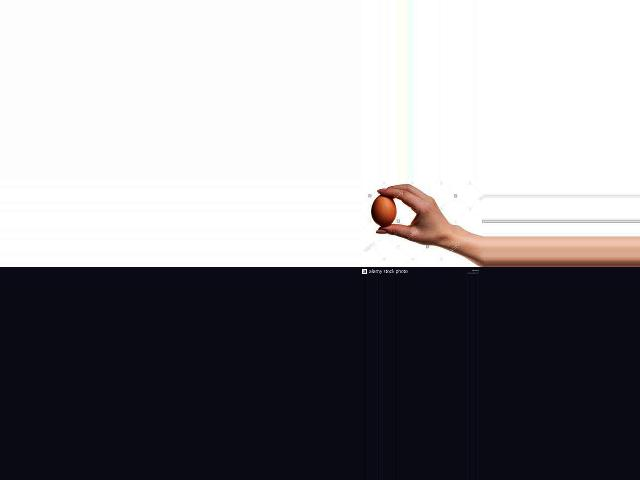egg: (371, 195, 398, 227)
